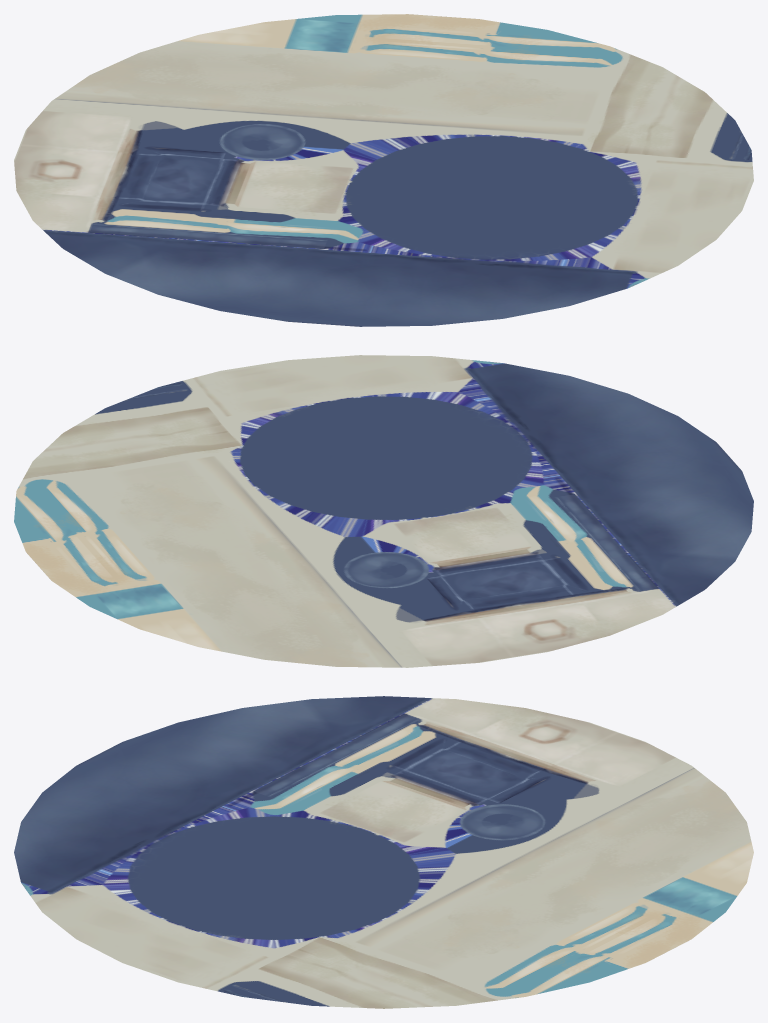
The model's file is SiloPieceCircle.fbx.
3 views of the same model, one above another, from view 1: azimuth 30°, elevation 25°; view 2: azimuth 150°, elevation 25°; view 3: azimuth 270°, elevation 25° (orthographic).
Visible parts, largest first — view 1: SiloPieceCircle; view 2: SiloPieceCircle; view 3: SiloPieceCircle.
Part boxes in pixels (bbox=[...]): SiloPieceCircle: bbox=[14, 14, 753, 326]; SiloPieceCircle: bbox=[14, 355, 753, 667]; SiloPieceCircle: bbox=[14, 696, 753, 1008].
Bounding box in the file's own units: 14.16 × 3.81e-06 × 14.16.
Materials: 1 (1 with a texture image).
